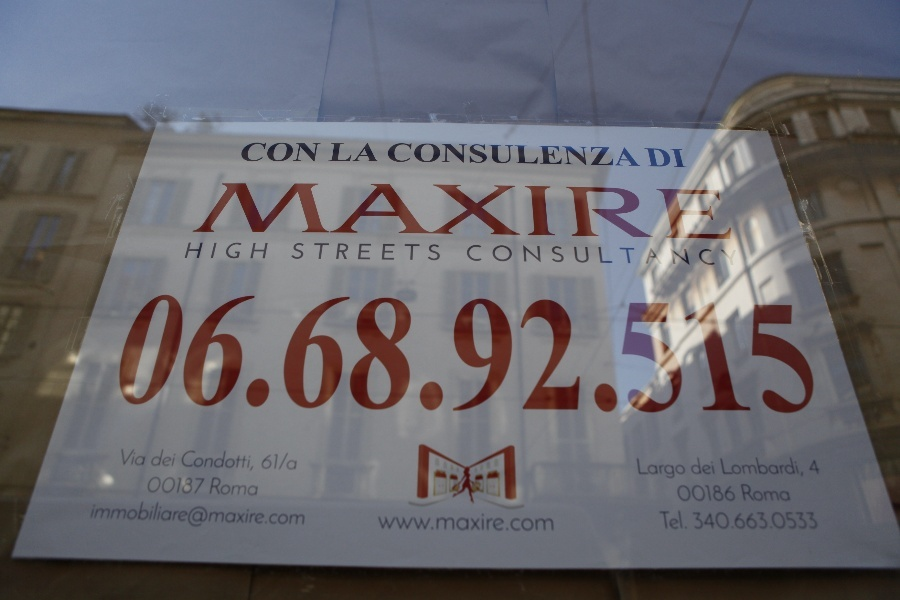text: (145, 294, 160, 416), (161, 294, 176, 416), (177, 294, 192, 416), (193, 294, 208, 416), (209, 294, 224, 416), (225, 294, 240, 416), (241, 294, 256, 416), (257, 294, 272, 416), (273, 294, 288, 416), (289, 294, 304, 416), (305, 294, 320, 416), (321, 294, 336, 416), (337, 294, 352, 416), (353, 294, 368, 416), (369, 294, 384, 416), (385, 294, 400, 416), (401, 294, 416, 416), (417, 294, 432, 416), (433, 294, 448, 416), (449, 294, 464, 416), (465, 294, 480, 416), (481, 294, 496, 416), (497, 294, 512, 416), (513, 294, 528, 416), (529, 294, 544, 416), (545, 294, 560, 416), (561, 294, 576, 416), (577, 294, 592, 416), (593, 294, 608, 416), (609, 294, 624, 416), (625, 294, 640, 416), (641, 294, 656, 416), (657, 294, 672, 416), (673, 294, 688, 416), (689, 294, 704, 416), (705, 294, 720, 416), (721, 294, 736, 416), (737, 294, 752, 416), (753, 294, 768, 416), (769, 294, 784, 416), (785, 294, 800, 416), (801, 294, 816, 416), (817, 294, 826, 416), (225, 182, 240, 243), (241, 182, 256, 243), (257, 182, 272, 243), (273, 182, 288, 243), (289, 182, 304, 243), (305, 182, 320, 243), (321, 182, 336, 243), (337, 182, 352, 243), (353, 182, 368, 243), (369, 182, 384, 243), (385, 182, 400, 243), (401, 182, 416, 243), (417, 182, 432, 243), (433, 182, 448, 243), (449, 182, 464, 243), (465, 182, 480, 243), (481, 182, 496, 243), (497, 182, 512, 243), (513, 182, 528, 243), (529, 182, 544, 243), (545, 182, 560, 243), (561, 182, 576, 243), (577, 182, 592, 243), (593, 182, 608, 243), (609, 182, 624, 243), (625, 182, 640, 243), (641, 182, 656, 243), (657, 182, 672, 243), (673, 182, 688, 243), (689, 182, 704, 243), (705, 182, 720, 243), (721, 182, 735, 243), (139, 294, 144, 416), (289, 500, 305, 527), (97, 500, 112, 527), (113, 500, 128, 527), (129, 500, 144, 527), (145, 500, 160, 527), (161, 500, 176, 527), (177, 500, 192, 527), (193, 500, 208, 527), (209, 500, 224, 527), (225, 500, 240, 527), (241, 500, 256, 527), (257, 500, 272, 527), (273, 500, 288, 527), (625, 143, 641, 167), (497, 143, 512, 167), (513, 143, 528, 167), (529, 143, 544, 167), (545, 143, 560, 167), (561, 143, 576, 167), (577, 143, 592, 167), (593, 143, 608, 167), (609, 143, 624, 167), (721, 485, 737, 506), (481, 244, 496, 266), (497, 244, 512, 266), (513, 244, 528, 266), (529, 244, 544, 266), (545, 244, 560, 266), (561, 244, 576, 266), (577, 244, 592, 266), (593, 244, 608, 266), (609, 244, 624, 266), (625, 244, 640, 266), (641, 244, 656, 266), (657, 244, 672, 266), (673, 244, 688, 266), (689, 244, 704, 266), (705, 244, 720, 266), (721, 244, 736, 266), (193, 450, 208, 472), (209, 450, 224, 472), (225, 450, 240, 472), (641, 458, 656, 480), (657, 458, 672, 480), (673, 458, 688, 480), (721, 456, 736, 477), (737, 456, 752, 477), (753, 456, 768, 477), (769, 456, 784, 477), (785, 456, 800, 477), (689, 485, 704, 506), (705, 485, 720, 506), (305, 143, 321, 162), (657, 148, 672, 168), (225, 477, 240, 497), (241, 477, 256, 497), (385, 512, 400, 532), (401, 512, 416, 532), (417, 512, 432, 532), (433, 512, 448, 532), (449, 512, 464, 532), (465, 512, 480, 532), (481, 512, 496, 532), (497, 512, 512, 532), (513, 512, 528, 532), (529, 512, 544, 532), (241, 450, 254, 472), (257, 143, 272, 162), (273, 143, 288, 162), (289, 143, 304, 162), (337, 143, 352, 162), (353, 143, 368, 162), (161, 448, 176, 467), (273, 452, 288, 471), (161, 476, 176, 495), (177, 476, 192, 495), (673, 148, 687, 168), (675, 485, 688, 506), (305, 243, 320, 261), (321, 243, 336, 261), (337, 243, 352, 261), (353, 243, 368, 261), (369, 243, 384, 261), (385, 243, 400, 261), (401, 243, 416, 261), (417, 243, 432, 261), (753, 483, 768, 501), (769, 483, 784, 501), (673, 512, 688, 530), (689, 512, 704, 530), (705, 512, 720, 530), (721, 512, 736, 530), (737, 512, 752, 530), (753, 512, 768, 530), (769, 512, 784, 530), (785, 512, 800, 530), (801, 512, 816, 530), (690, 456, 704, 475), (129, 449, 144, 466), (193, 476, 206, 495), (469, 244, 480, 266), (644, 148, 656, 168), (193, 243, 208, 259), (209, 243, 224, 259), (225, 243, 240, 259), (241, 243, 256, 259), (212, 477, 224, 497), (659, 512, 672, 530), (244, 143, 256, 162), (741, 483, 752, 501), (369, 143, 379, 162), (289, 452, 299, 471), (705, 456, 715, 475), (545, 512, 554, 532), (257, 243, 268, 259), (151, 476, 160, 495), (295, 243, 304, 261), (376, 512, 384, 532), (185, 450, 192, 472), (433, 243, 441, 261), (265, 452, 272, 471), (785, 483, 792, 501), (808, 460, 816, 475), (121, 449, 128, 466), (155, 448, 160, 467), (801, 456, 805, 477), (332, 143, 336, 162), (637, 458, 640, 480), (94, 500, 96, 527), (189, 243, 192, 259), (817, 460, 820, 475), (257, 477, 259, 497), (817, 512, 819, 530), (495, 143, 496, 167), (145, 449, 146, 466)
